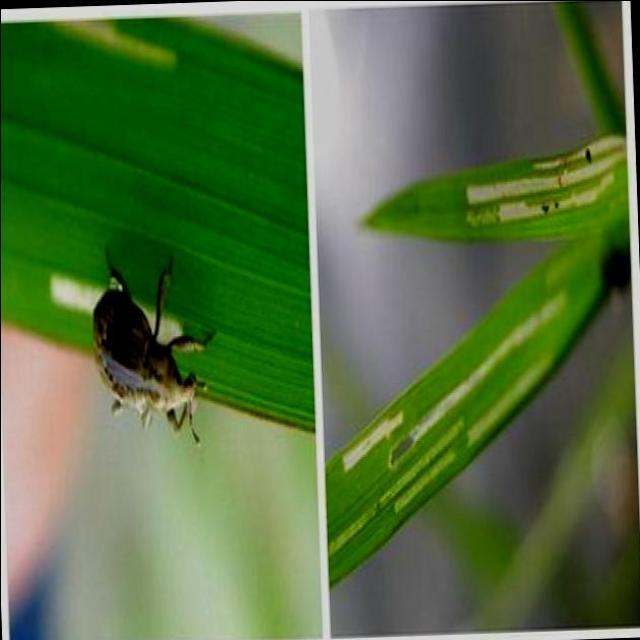ricebug: (92, 260, 211, 444)
